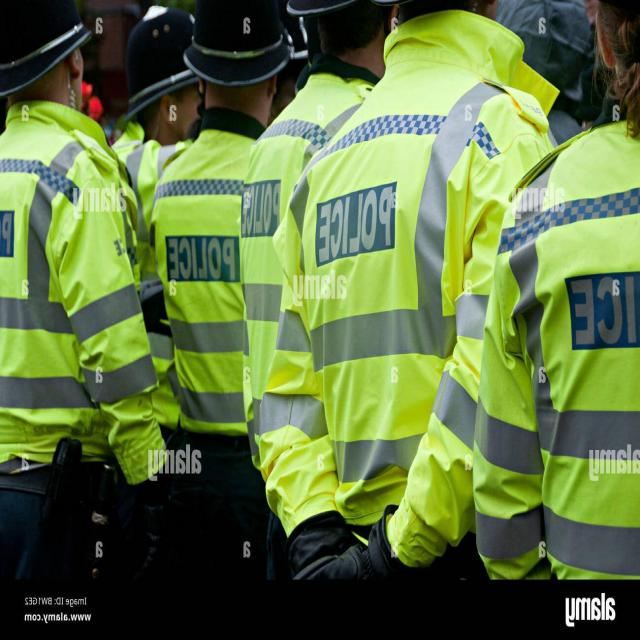Reflective-Jacket: (244, 21, 562, 561), (478, 106, 640, 574), (2, 108, 151, 476), (141, 127, 262, 446)
